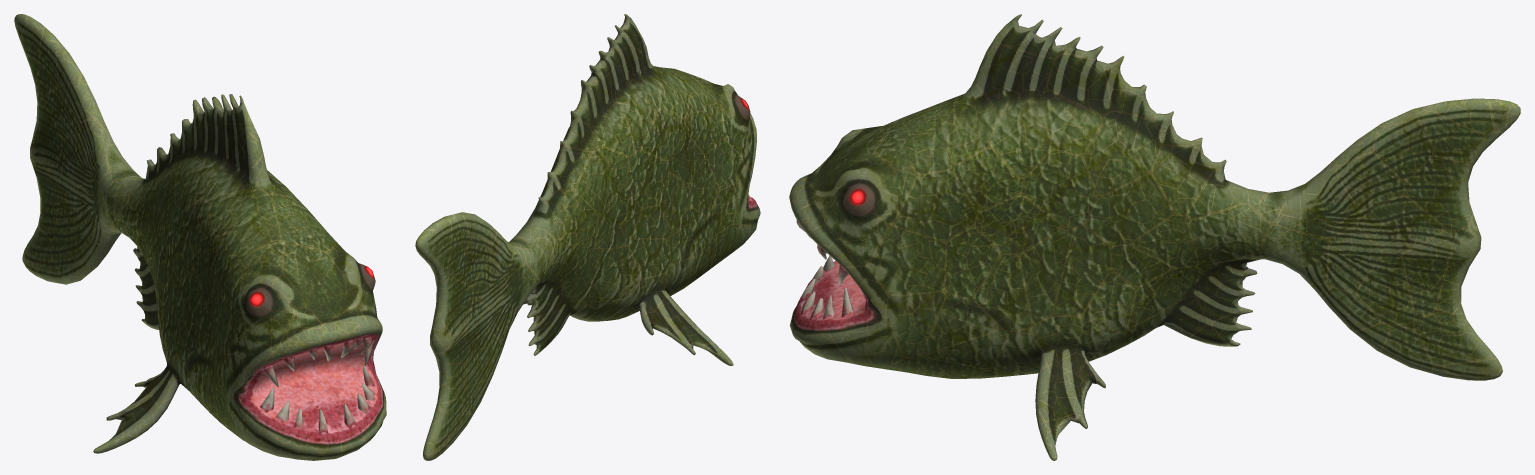
Rendered from CreatureFish02_1.FBX.
3 views of the same model, side by side, from view 1: azimuth 30°, elevation 25°; view 2: azimuth 150°, elevation 25°; view 3: azimuth 270°, elevation 25° (orthographic). The views are drawn at different scales.
Visible parts, largest first — view 1: CreatureFish02_1; view 2: CreatureFish02_1; view 3: CreatureFish02_1.
Part boxes in pixels (x1=…): CreatureFish02_1: x1=14, y1=14, x2=386, y2=460; CreatureFish02_1: x1=415, y1=14, x2=760, y2=460; CreatureFish02_1: x1=789, y1=14, x2=1520, y2=460.
Size of the model in its own units: 0.3902 by 0.4769 by 0.8404.
